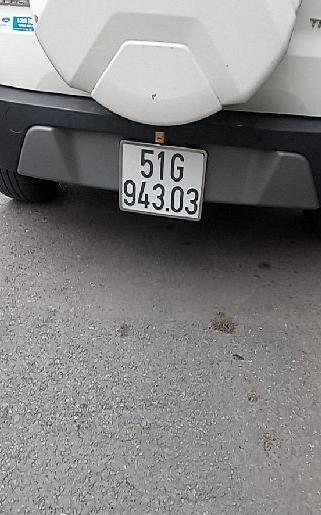Plate-iWeP: (118, 136, 206, 227)
